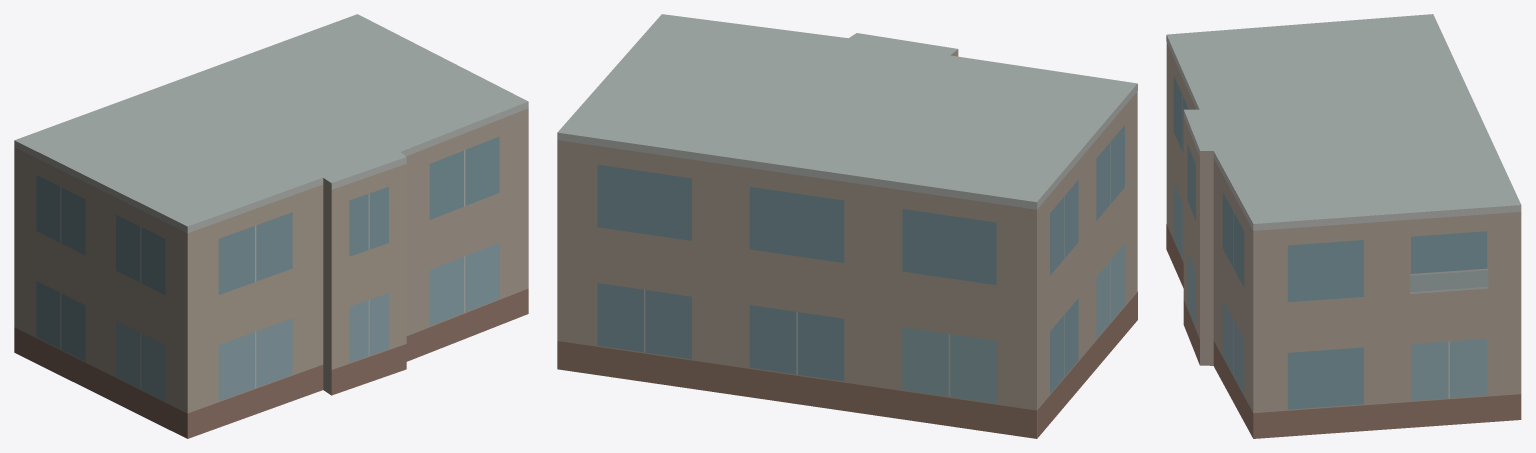
Rendered from survey-upis-32619556.glb.
3 views of the same model, side by side, from view 1: azimuth 30°, elevation 25°; view 2: azimuth 150°, elevation 25°; view 3: azimuth 270°, elevation 25° (orthographic). The views are drawn at different scales.
Visible parts, largest first — view 1: survey-upis-32619556.tmp; view 2: survey-upis-32619556.tmp; view 3: survey-upis-32619556.tmp.
Part boxes in pixels (box(x1,y1,x2,y2)): survey-upis-32619556.tmp: box(14, 14, 528, 438); survey-upis-32619556.tmp: box(557, 14, 1137, 438); survey-upis-32619556.tmp: box(1166, 14, 1521, 438).
Bounding box in the file's own units: 16.16 × 7.7 × 11.54.
